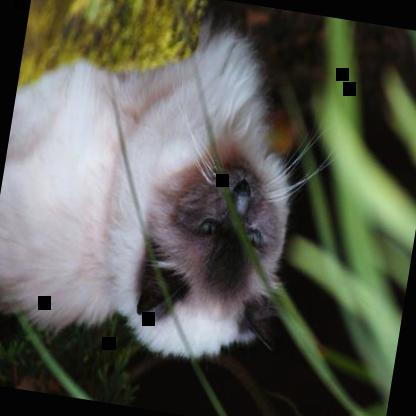cat: (0, 0, 324, 377)
